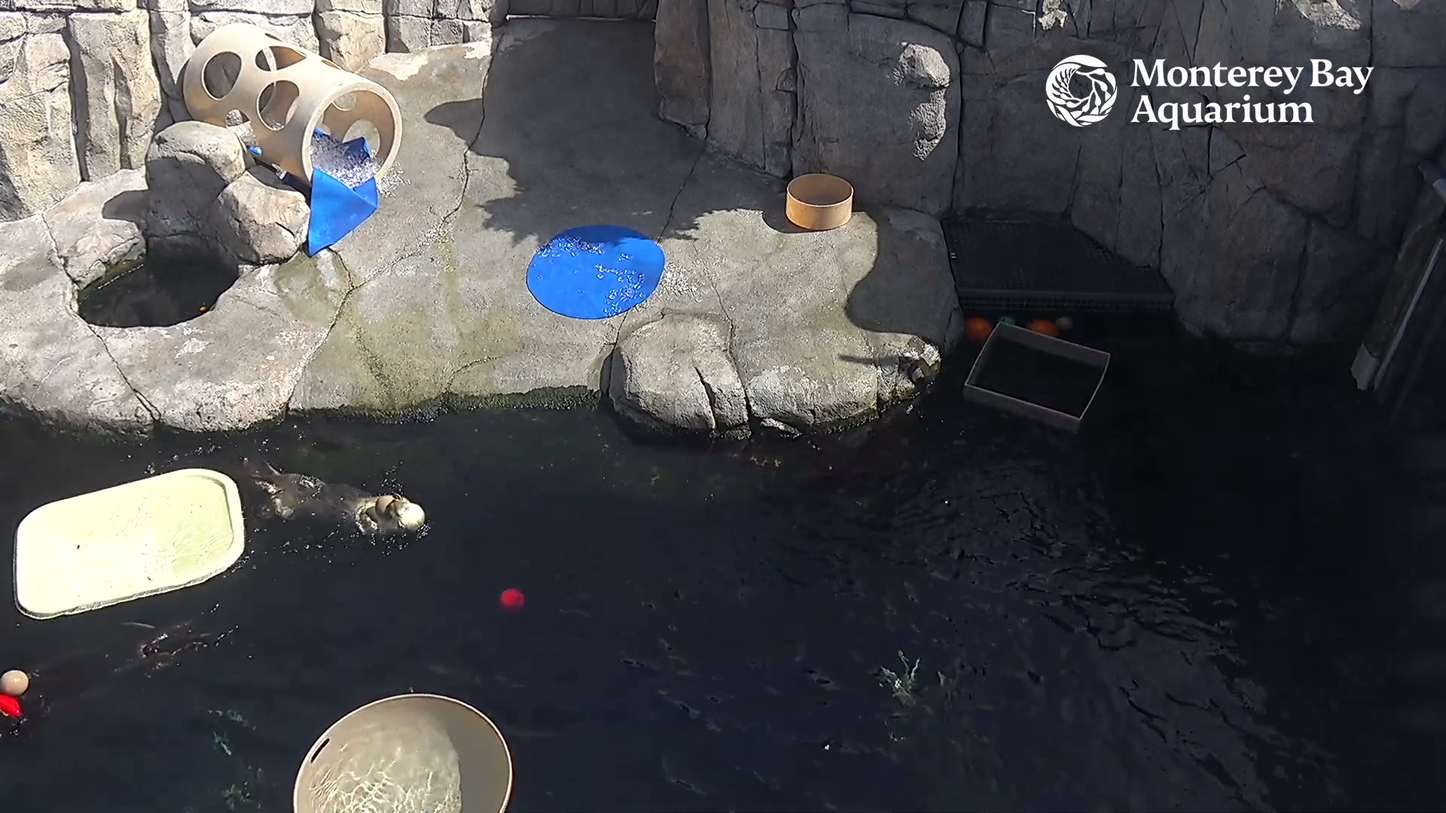Southern Sea Otter: (237, 440, 467, 576)
